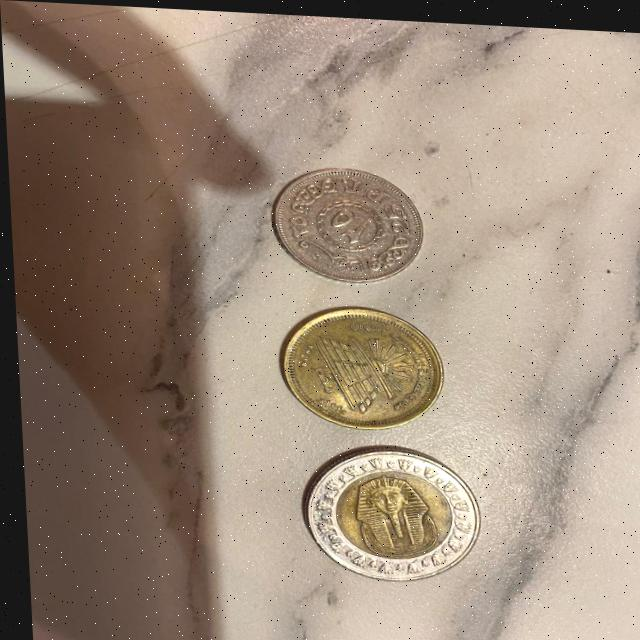Half Pound: (262, 293, 450, 442)
One Pound: (285, 431, 488, 583)
quarter pound: (259, 152, 428, 288)
